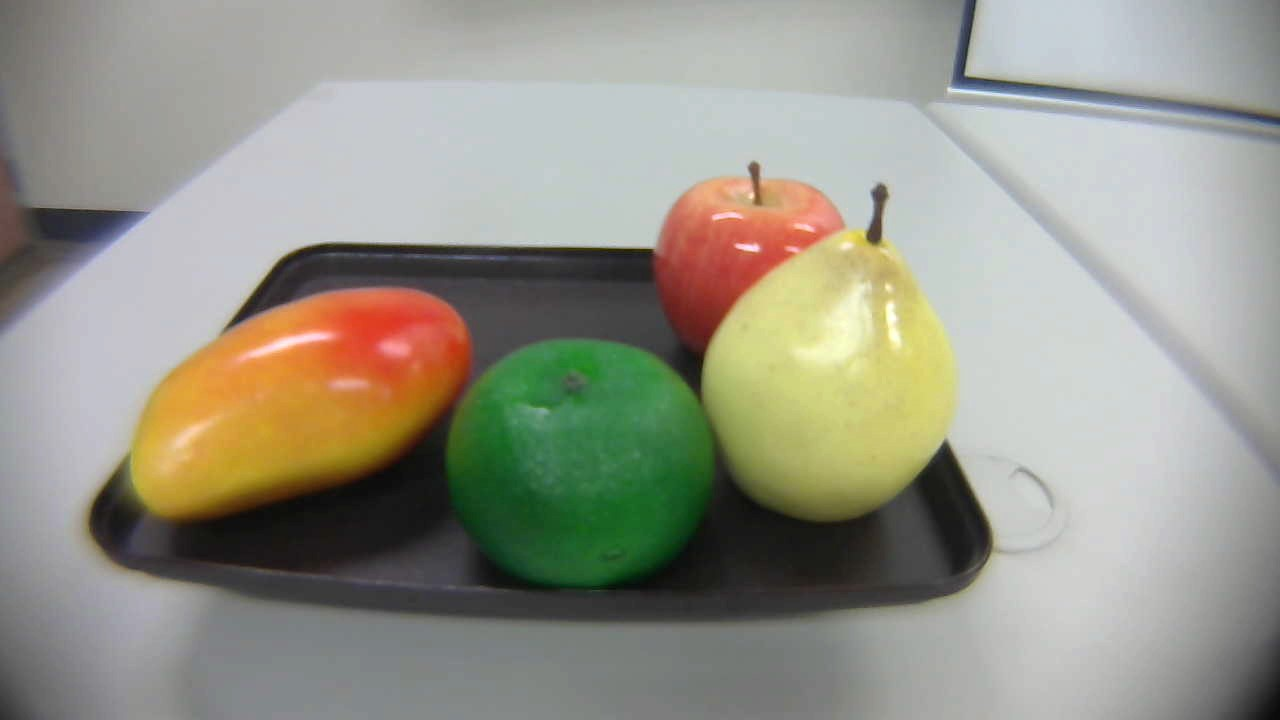green orange: (443, 331, 717, 588)
red apple: (627, 151, 843, 354)
red mango: (103, 278, 488, 534)
western pear: (698, 179, 962, 529)
